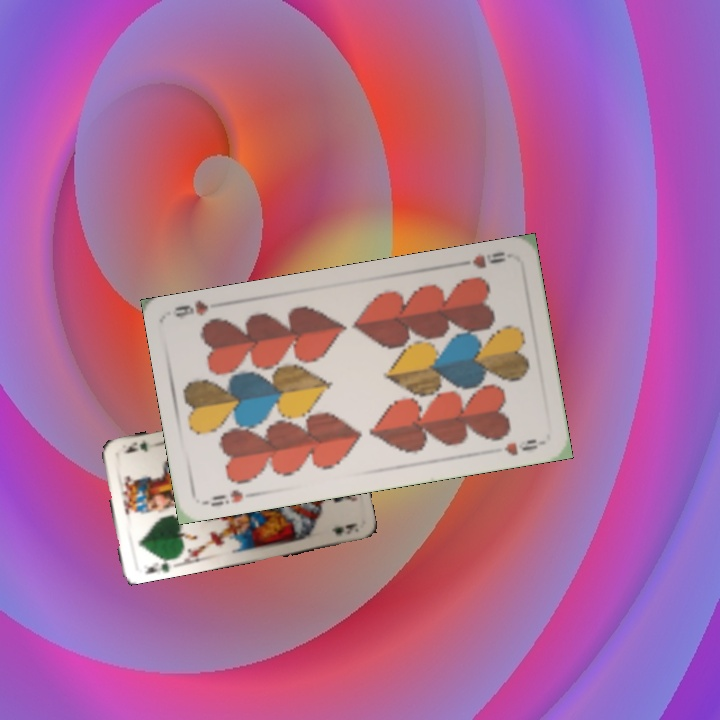GK: (141, 554, 175, 576)
H9: (453, 247, 508, 271), (207, 485, 246, 510)
